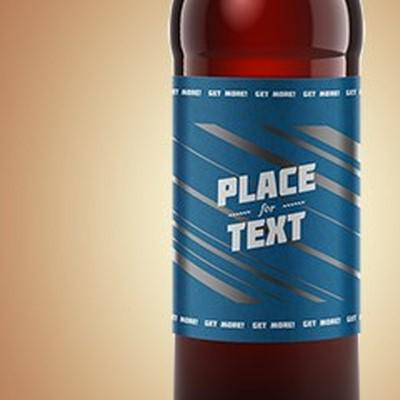beer: (168, 1, 363, 400)
